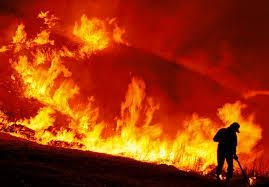fire: (8, 10, 251, 167)
